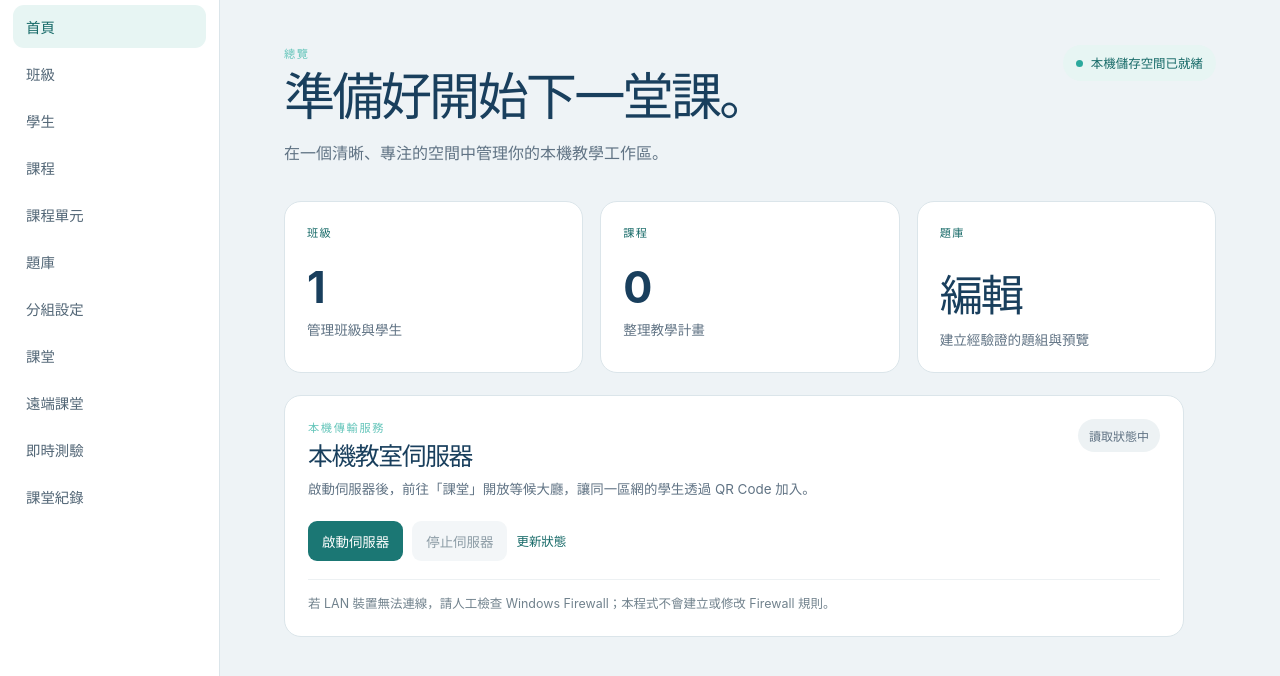
Scenario: Teacher basic data workspace › clears a stale student seat validation error before rendering the participant lobby
Expected: the text "本機儲存空間已就緒" is shown, 1063,45 -> 1216,81
Click the button "學生".
click(110, 120)  # box 13,99 -> 206,142
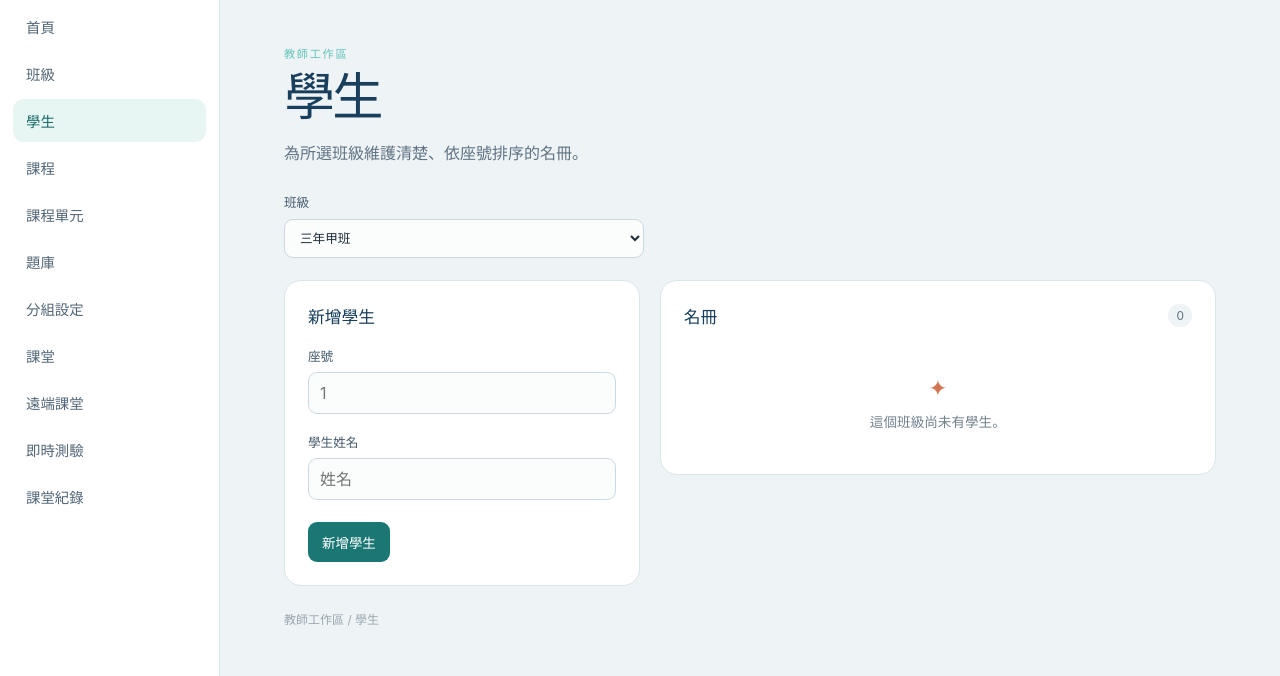
Expected: the heading "學生" is shown, 284,65 -> 381,127
Click the button "新增學生".
click(349, 542)  # box 308,522 -> 390,562
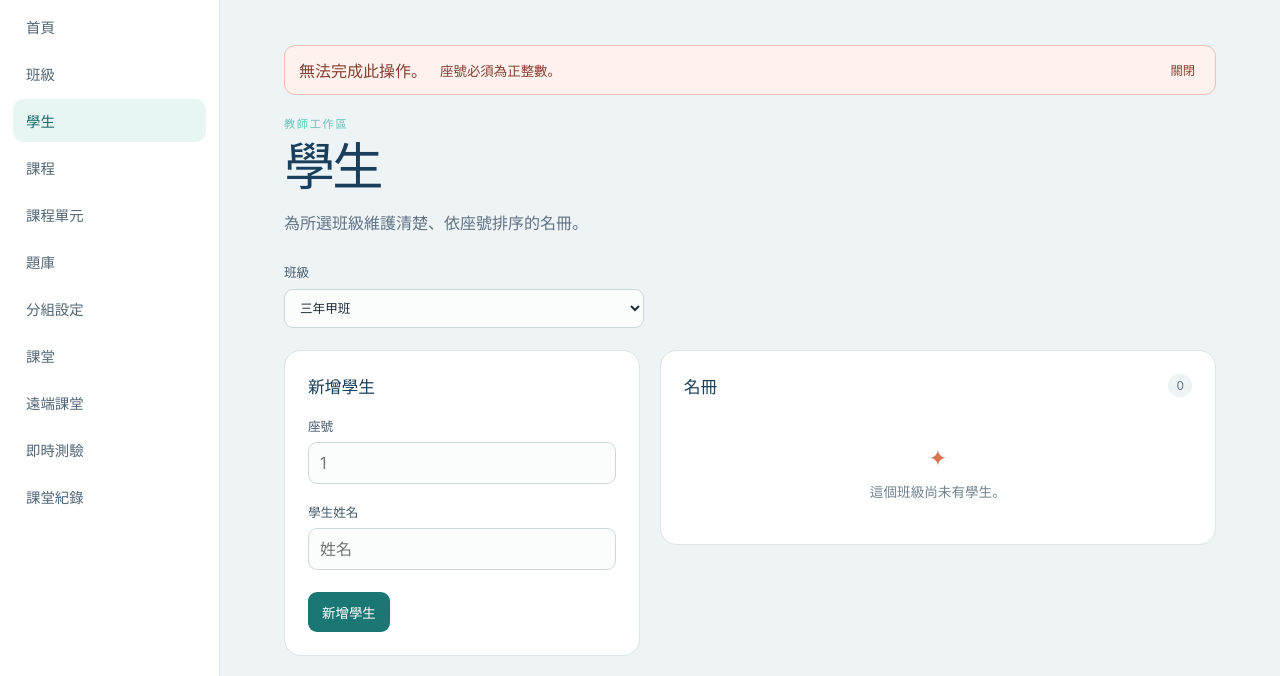
Expected: the message shows "座號必須為正整數。", 440,63 -> 561,79
Click the button "課堂".
click(110, 356)  # box 13,334 -> 206,377
(page scrolled)
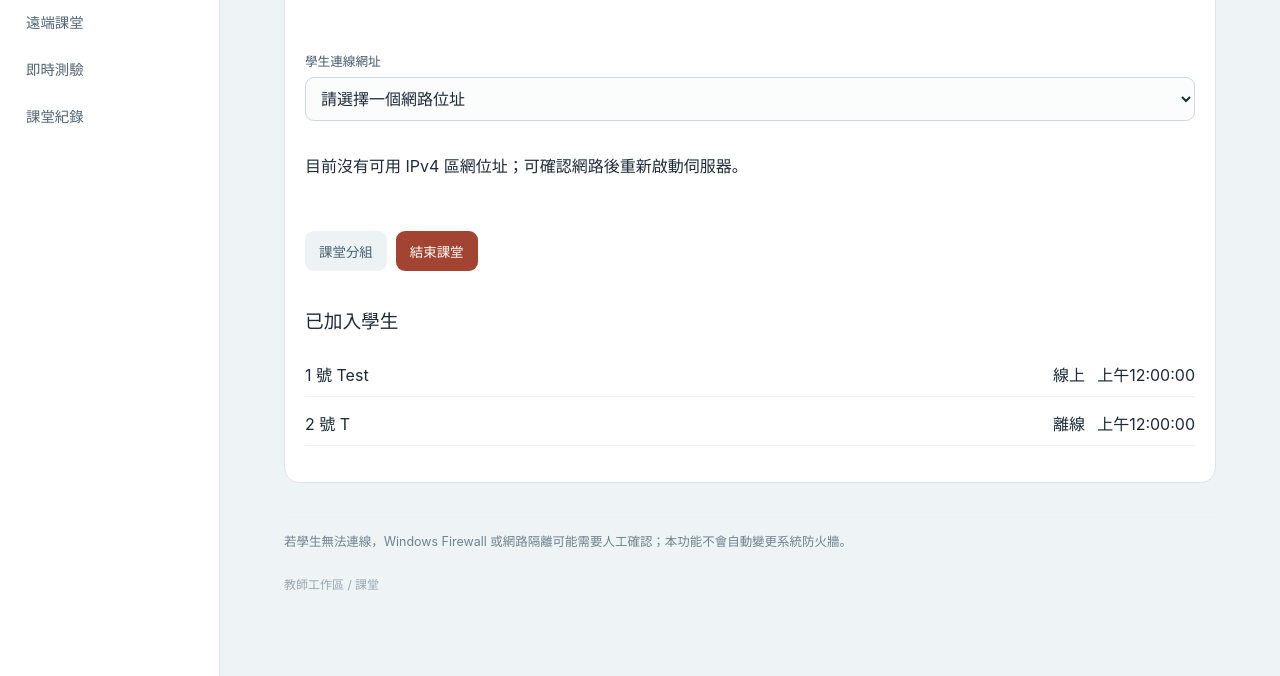
Expected: the text "1 號 Test" is shown, 305,364 -> 369,384
Expected: the text "2 號 T" is shown, 305,414 -> 350,434
Expected: the message "無法完成此操作。 座號必須為正整數。 關閉" is gone
